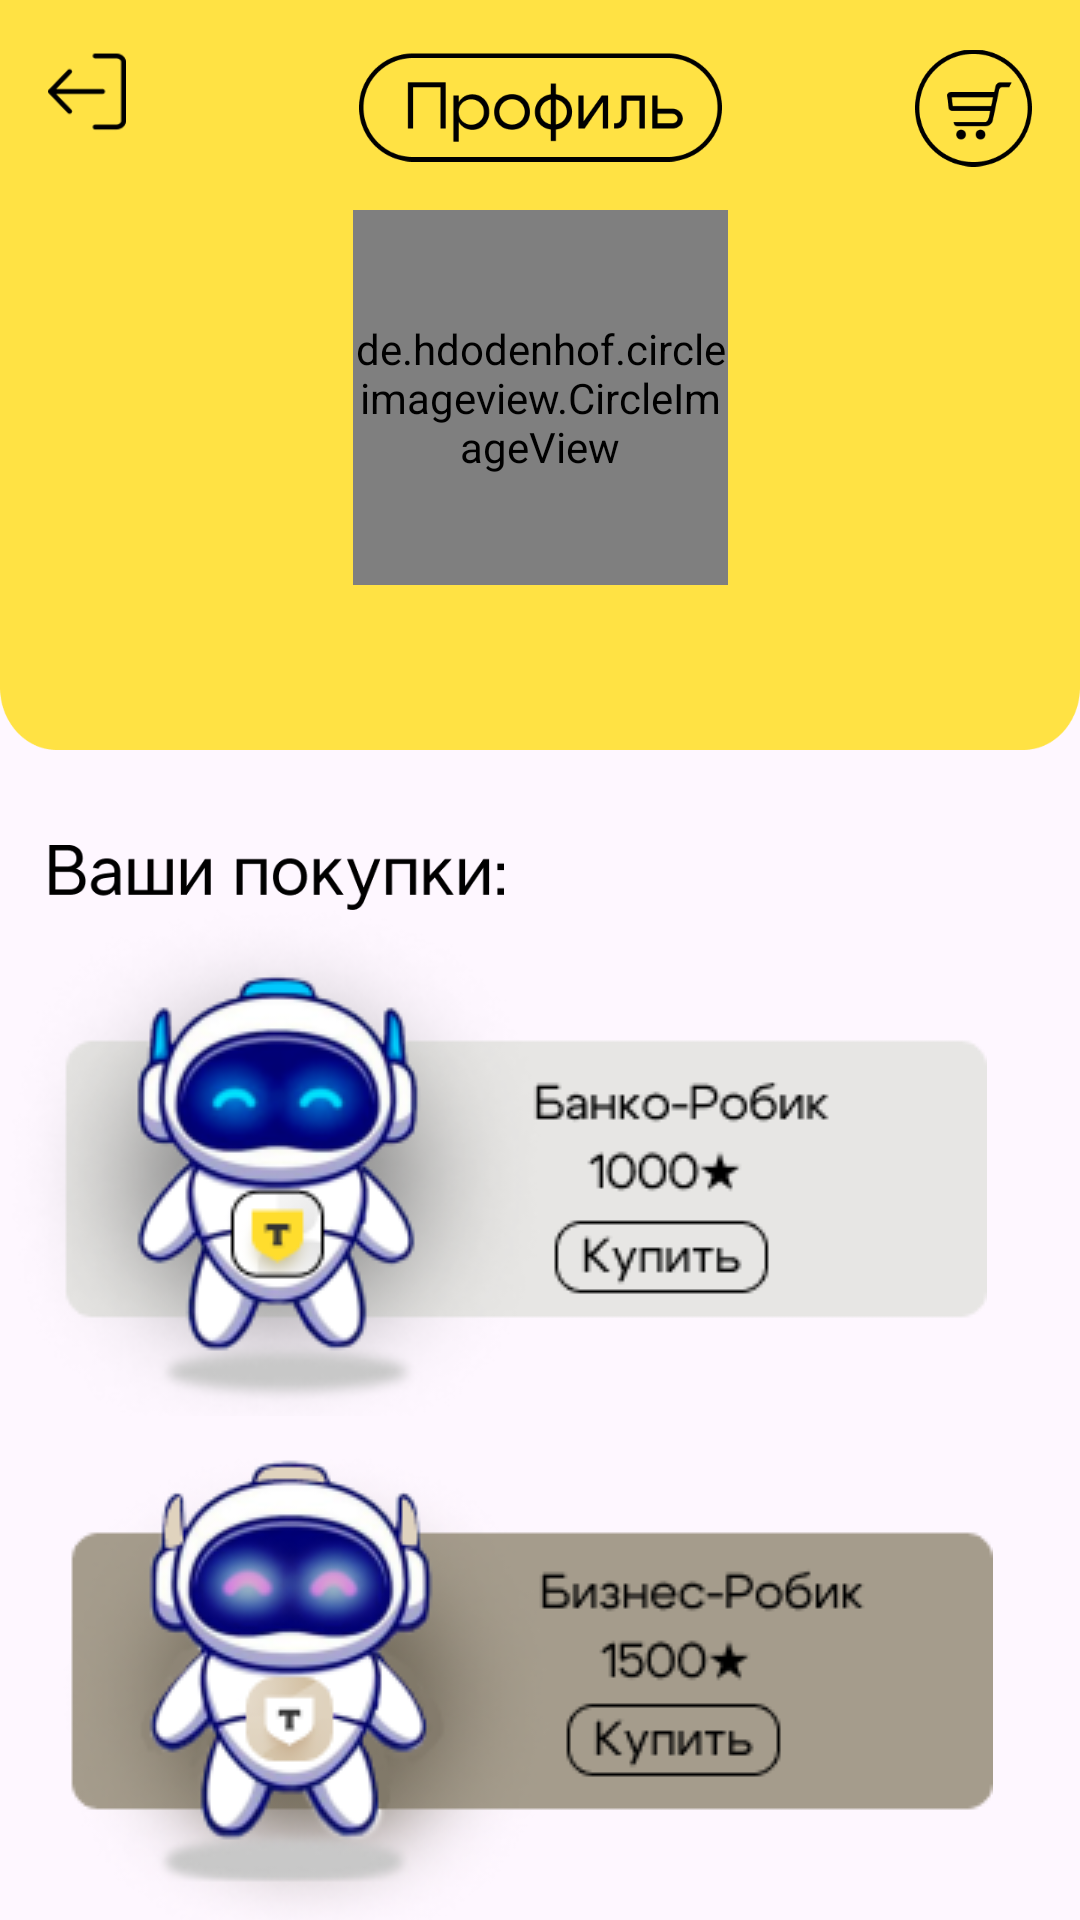

Icon click points for this 1080x1920 phone screenshot, format [x,y]:
back profil: [87,91]
shop: [973,108]
